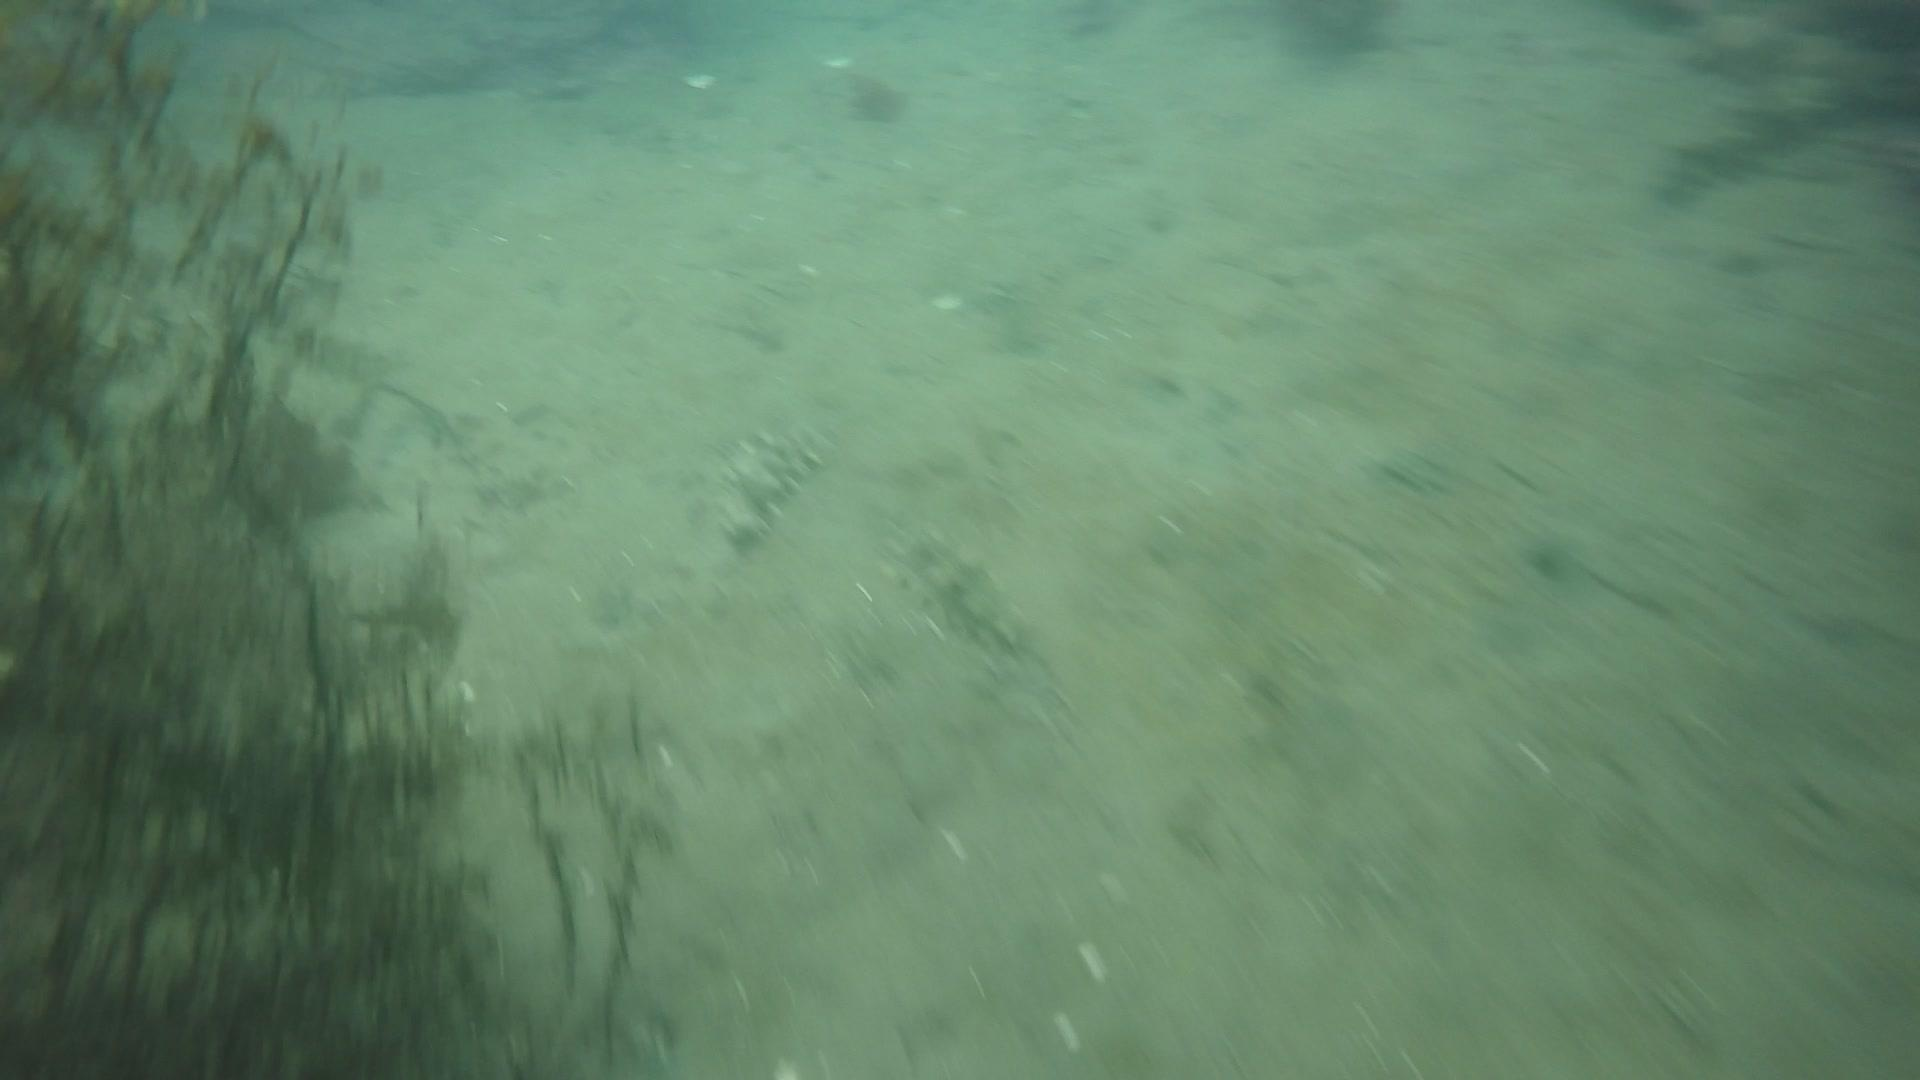holothurian: (698, 409, 841, 553), (886, 524, 1035, 655)
